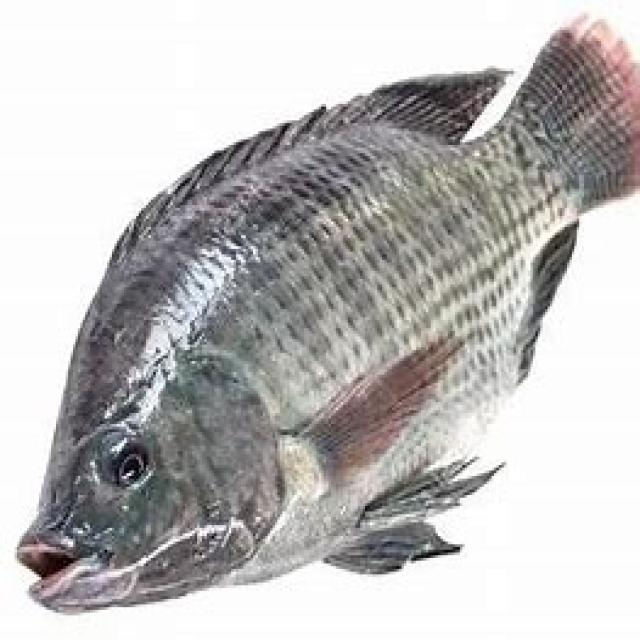Tilapia: (15, 5, 635, 617)
